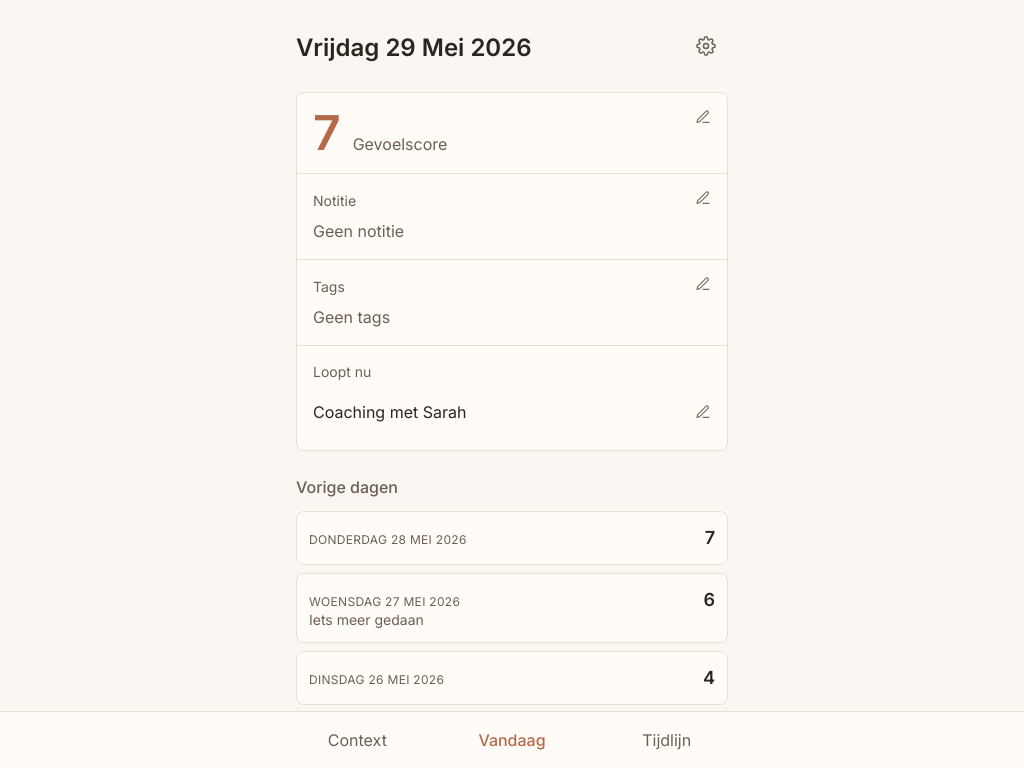
Test: <TodayShell /> › Context tab › given Context is selected and an active interventie is in the list, renders the Interventies (actief) h3 sub-group
The width and height of the screenshot is (1024, 768).
Click the tab "Context": (357, 740) [280,712,435,767]
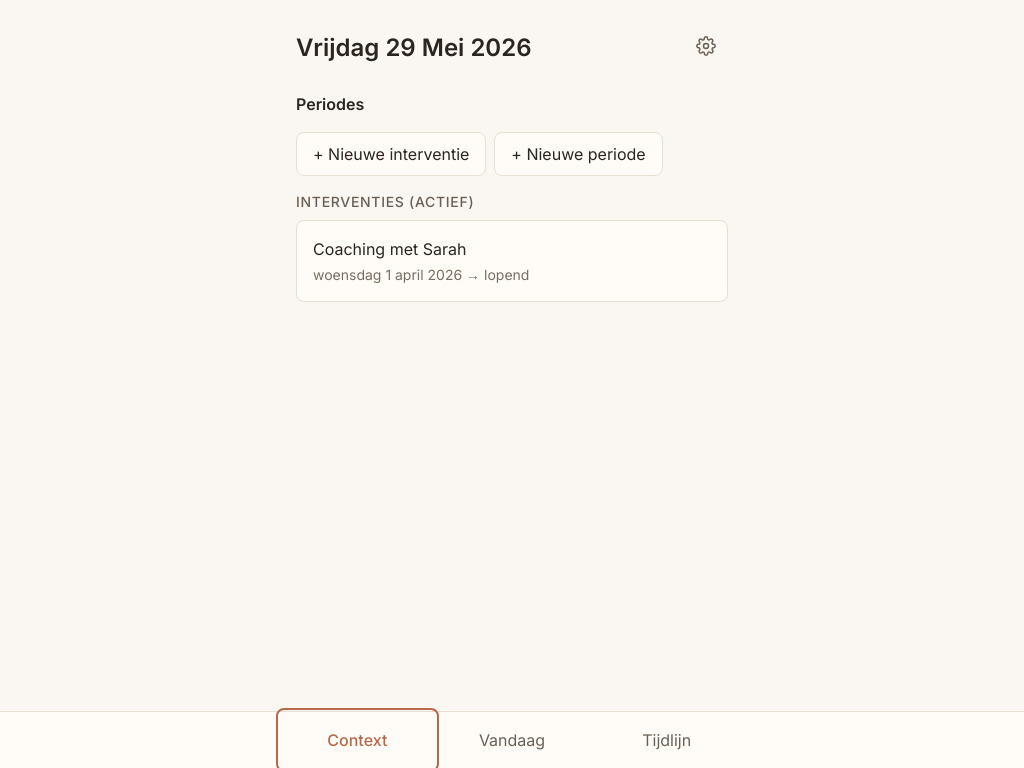
Expected: the text "Coaching met Sarah" is shown, [313,237,466,261]
Expected: the heading "Interventies (actief)" is shown, [296,193,474,210]
